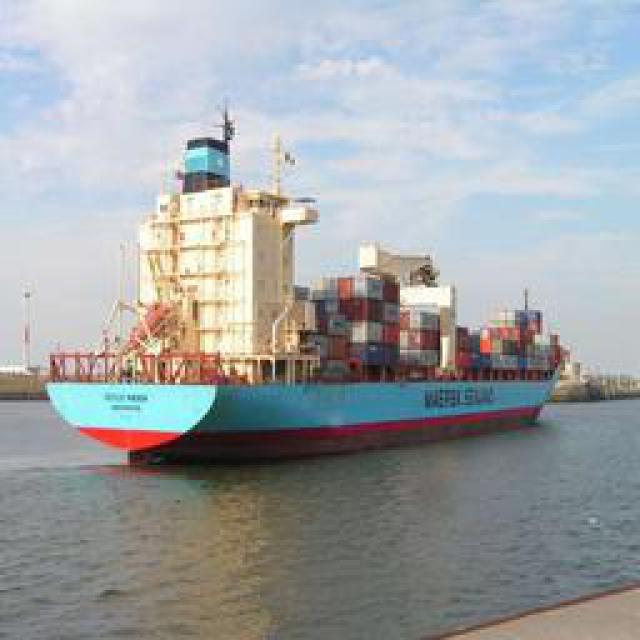Ship: (46, 94, 569, 464)
